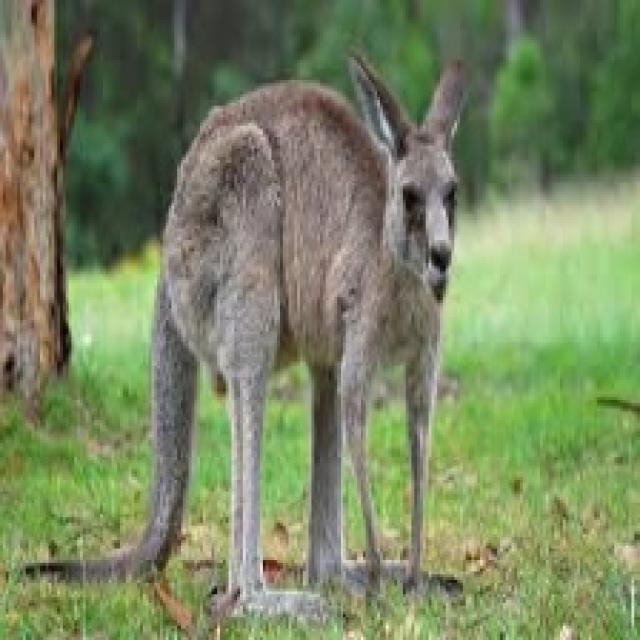bear: (68, 101, 533, 625)
